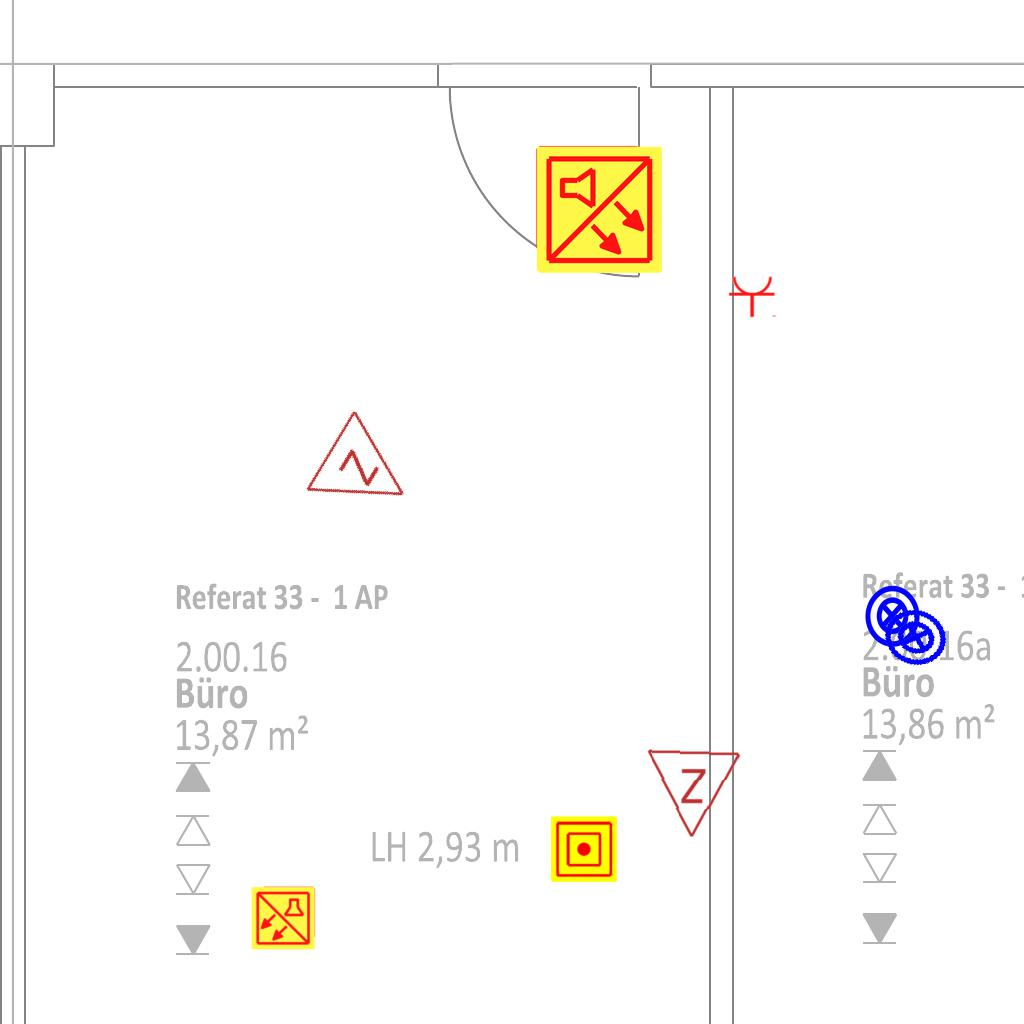NAM-Nichtautomatischer_Melder: (551, 816, 617, 882)
OKW_Multisensormelder_(Kombination_optischer_Rauch-Kahlenmonoxid_Waerme-Melder): (533, 144, 665, 276), (250, 885, 316, 951)
Schukosteckdose_einfach: (728, 275, 778, 318)
Taster_beleuchtet: (874, 595, 958, 679), (859, 583, 925, 649)
Zimmersignalleuchte: (298, 403, 436, 539), (643, 742, 745, 846)
